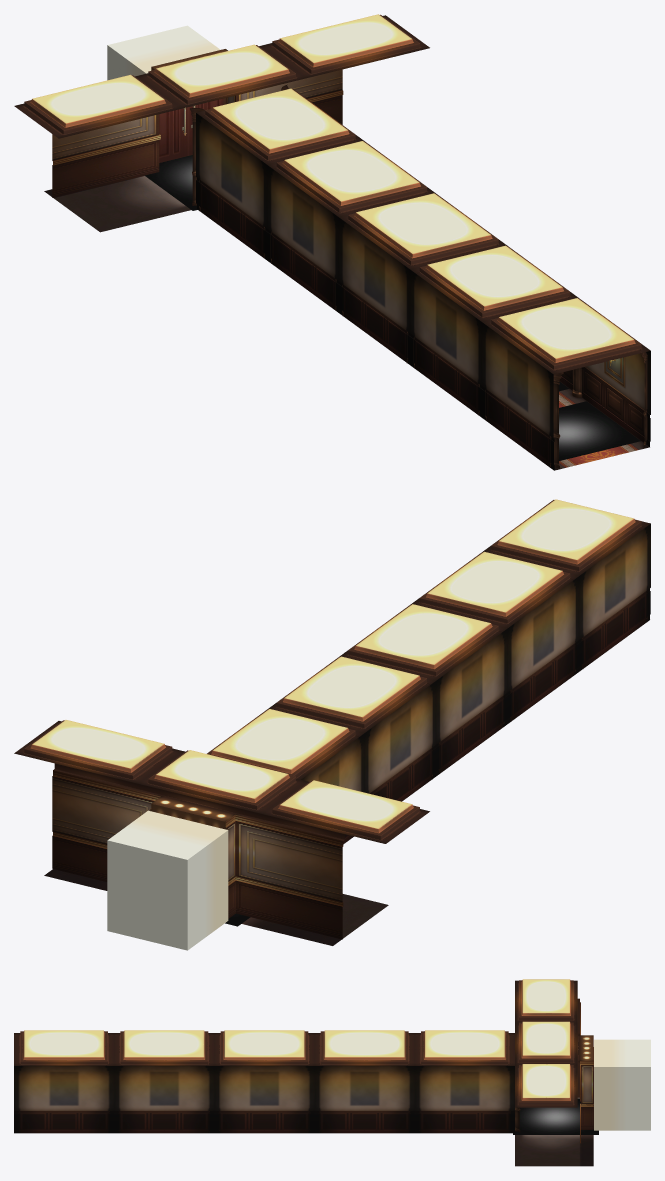
The model's file is Corridor.obj.
The picture shows the model from 3 angles, top to bottom: view 1: azimuth 30°, elevation 25°; view 2: azimuth 150°, elevation 25°; view 3: azimuth 270°, elevation 25°; orthographic projection. The views are drawn at different scales.
Parts seen in each view (by area): view 1: obj2, obj7, obj1, obj3; view 2: obj2, obj7; view 3: obj2, obj7, obj1.
Part boxes in pixels (left/top/right/bottom): obj2: left=14, top=14, right=650, bottom=470; obj7: left=44, top=175, right=649, bottom=470; obj1: left=145, top=155, right=640, bottom=460; obj3: left=159, top=107, right=188, bottom=162; obj2: left=14, top=499, right=650, bottom=950; obj7: left=44, top=620, right=649, bottom=945; obj2: left=14, top=979, right=650, bottom=1143; obj7: left=515, top=1097, right=593, bottom=1166; obj1: left=513, top=1098, right=598, bottom=1134.
Bounding box in the file's own units: 11.55 × 3.32 × 24.47.
Materials: 7 (7 with a texture image).
